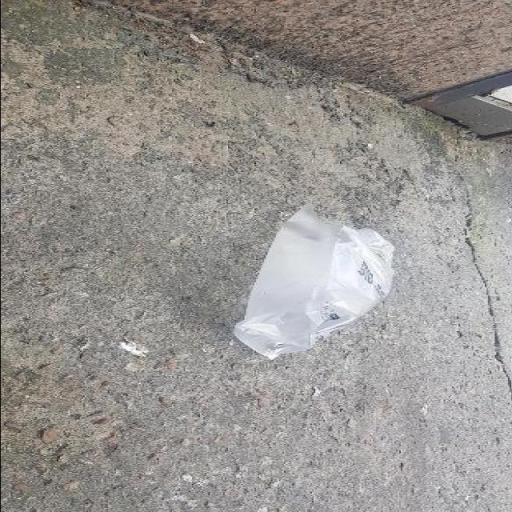plastic-bag: (230, 205, 393, 361)
